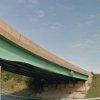Bridge: (7, 18, 86, 87)
